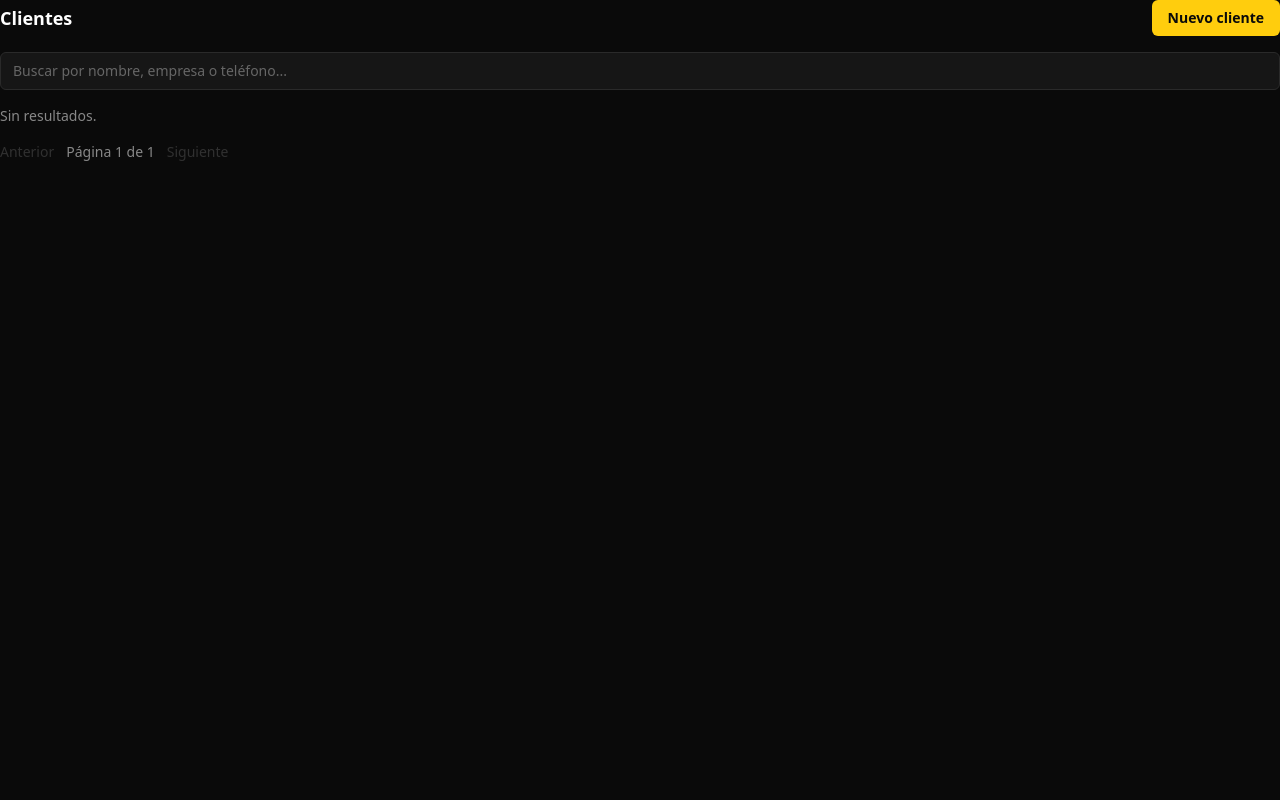
ClientsPage + ClientFormModal (integración) › crear un cliente nuevo refresca la lista y lo muestra sin recargar la página
The image size is (1280, 800).
Expected: the text "Sin resultados." is shown, top-left (0, 106), bottom-right (96, 125)
Click the button "Nuevo cliente".
click(1216, 18)  # box top-left (1152, 0), bottom-right (1279, 36)
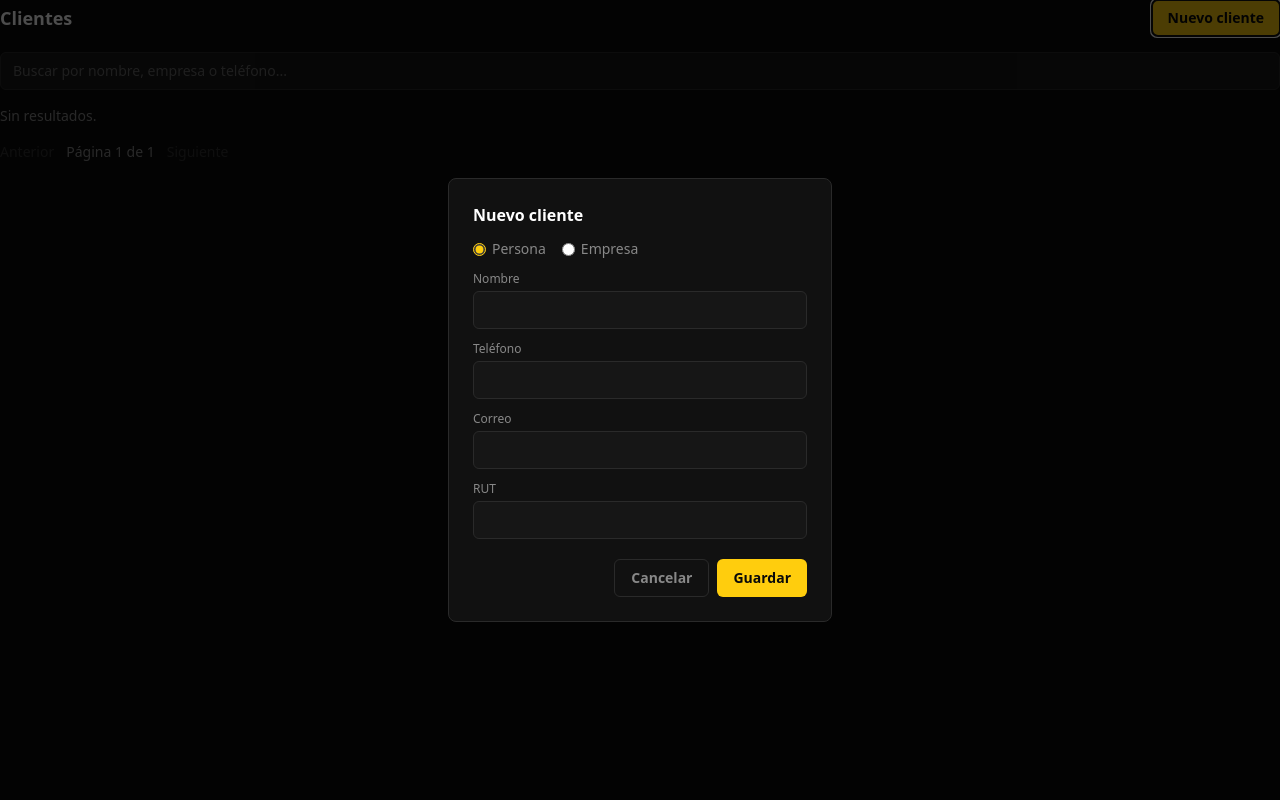
Type "Beatriz Nuevo" into the field labelled "Nombre".
click(640, 310); type("Beatriz Nuevo")  # box top-left (473, 291), bottom-right (807, 329)
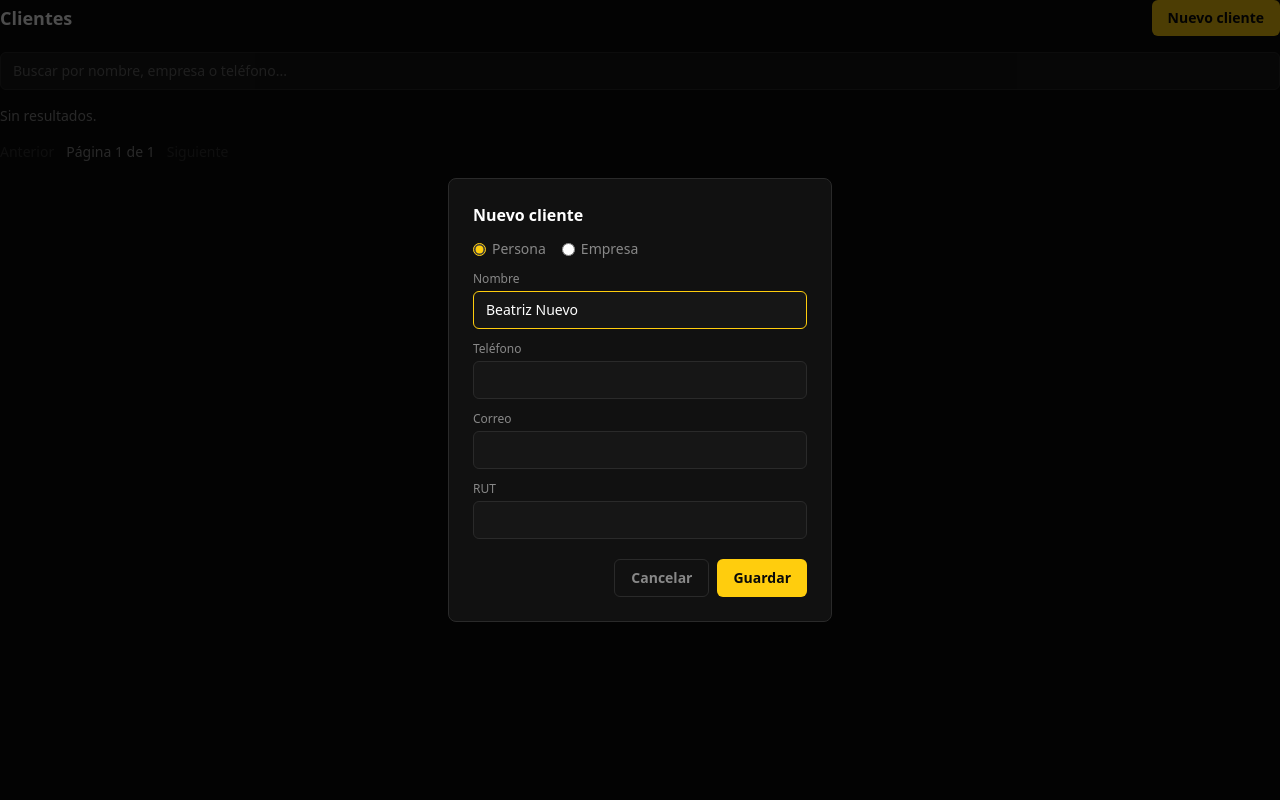
Type "+56933333333" into the field labelled "Teléfono".
click(640, 380); type("+56933333333")  # box top-left (473, 361), bottom-right (807, 399)
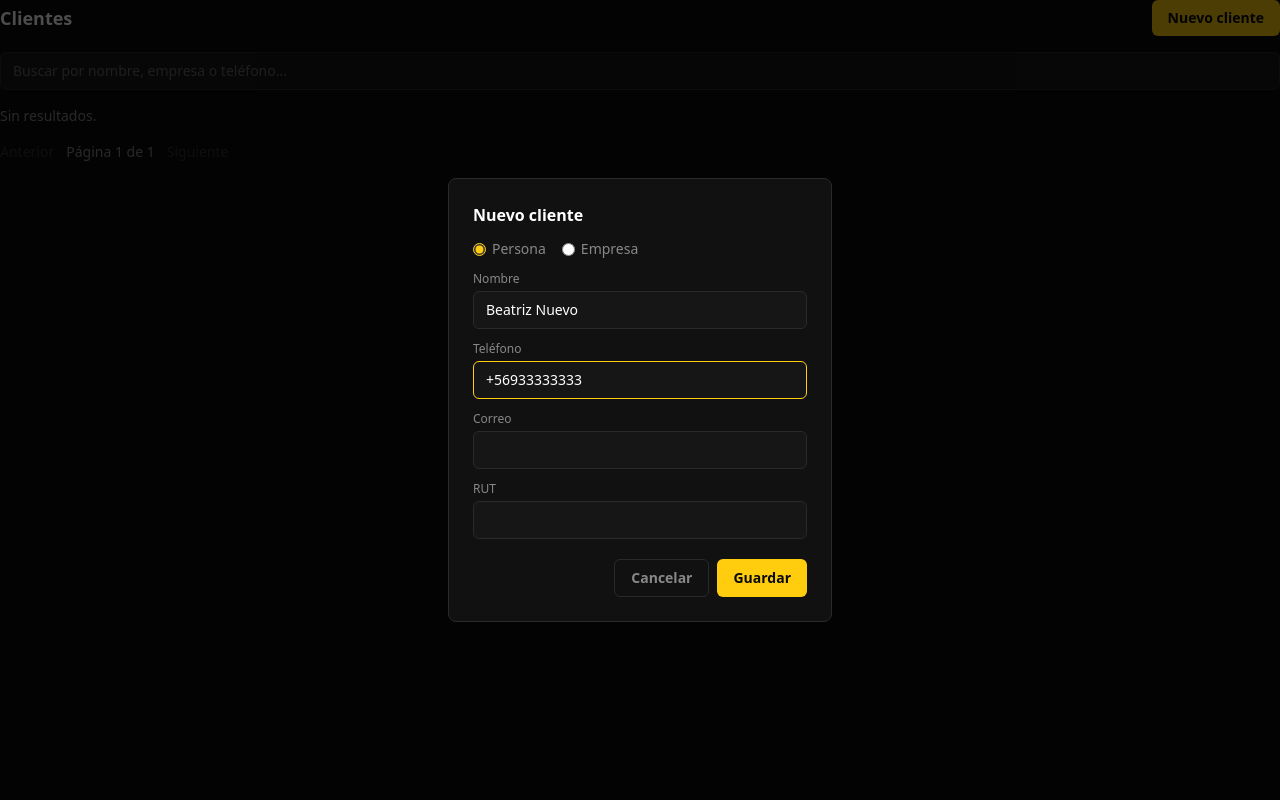
Click the button "Guardar".
click(762, 578)  # box top-left (718, 559), bottom-right (807, 597)
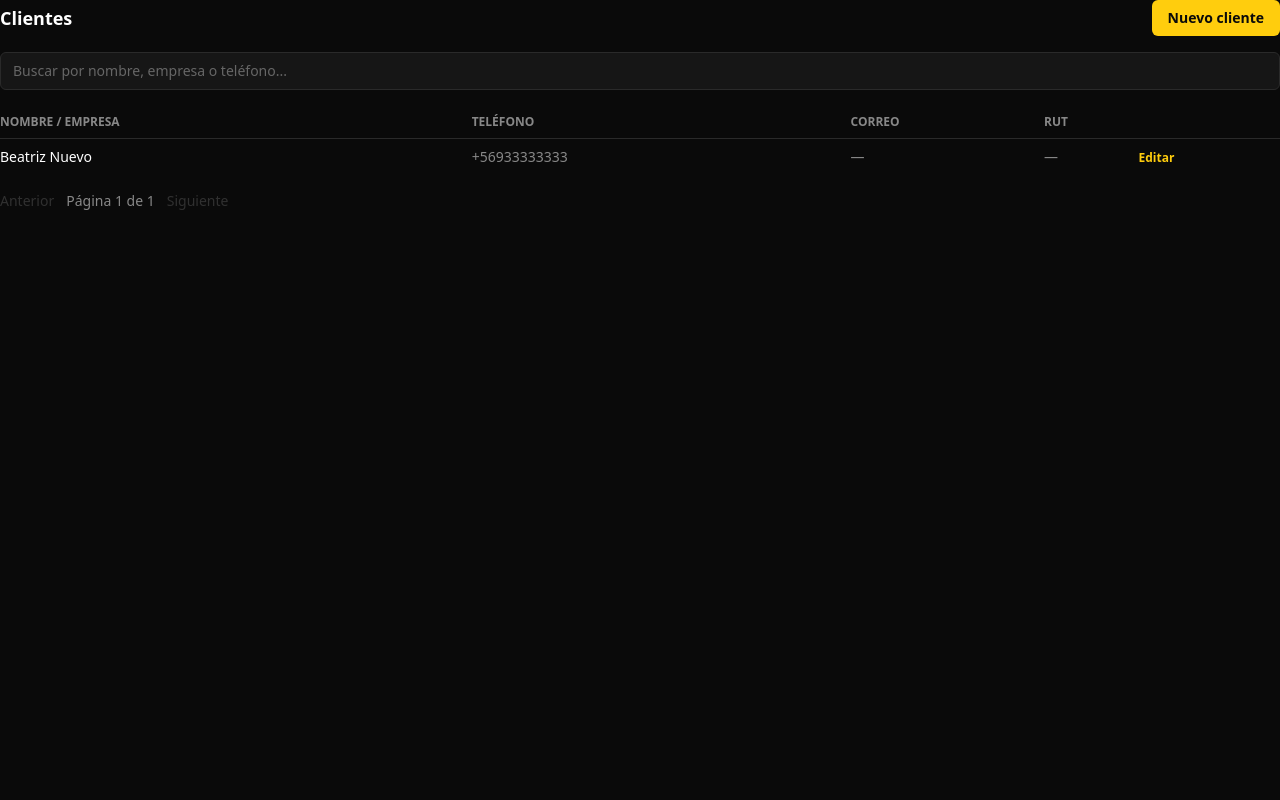
Now the text "Beatriz Nuevo" is shown, box top-left (0, 138), bottom-right (472, 175)
Now the button "Guardar" is gone
